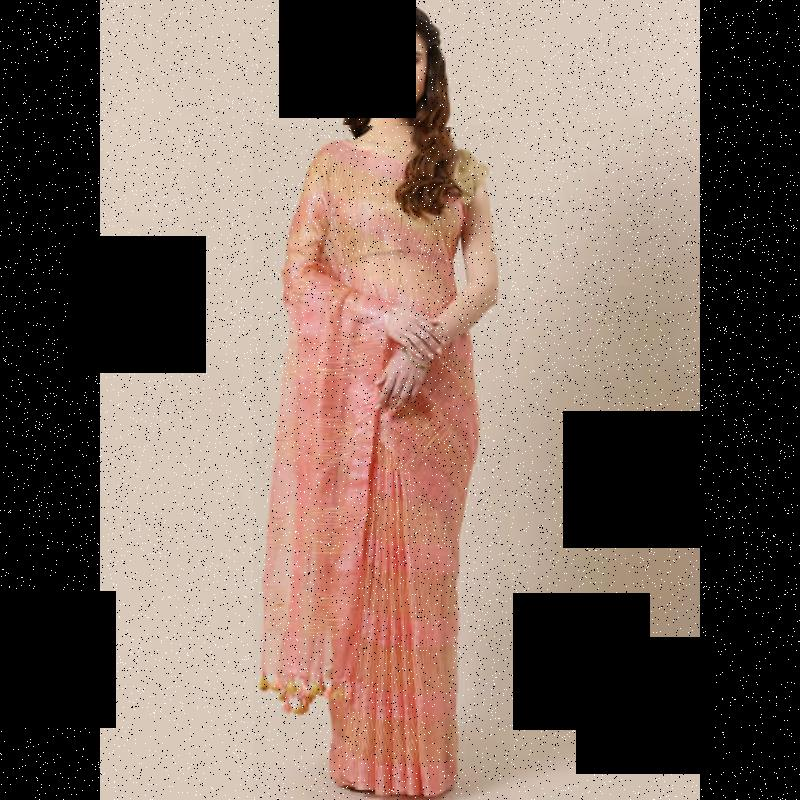Saree: (253, 125, 510, 800)
